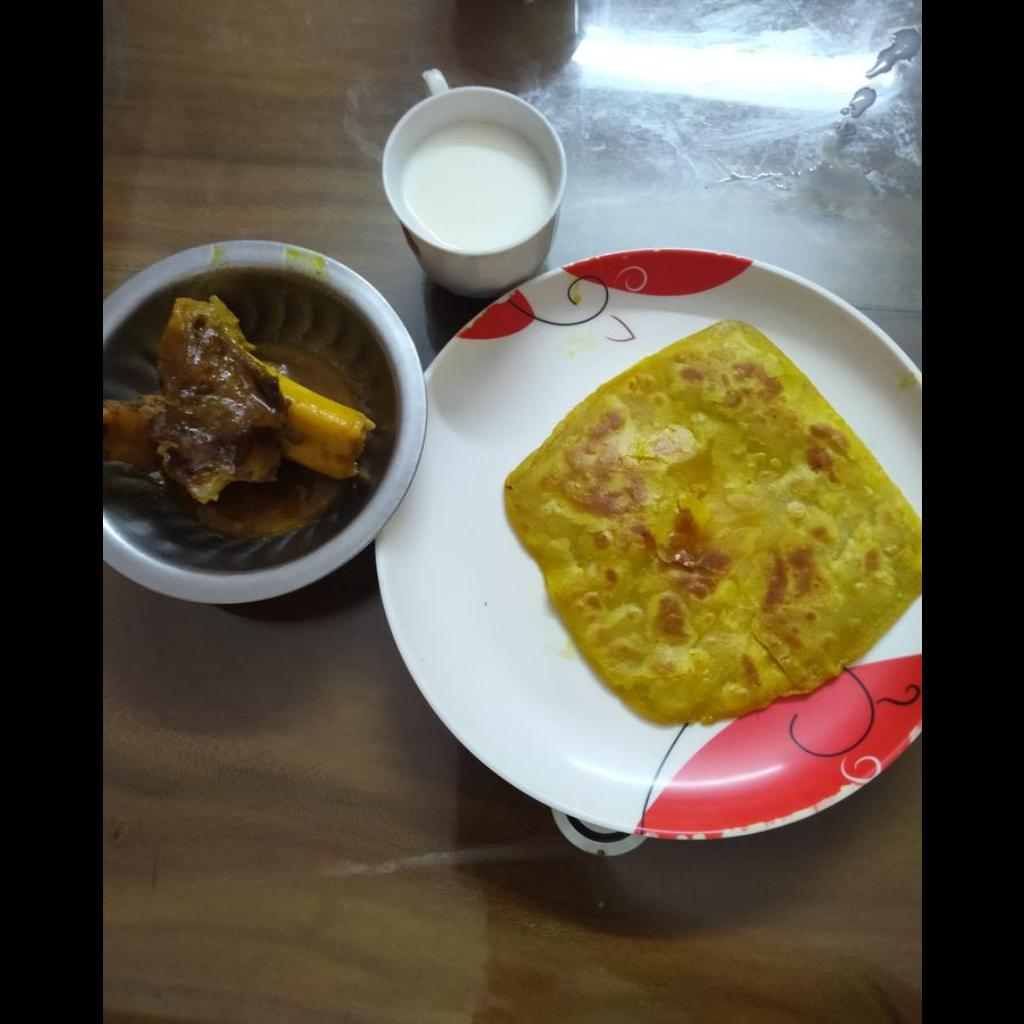beef: (107, 300, 372, 508)
milk: (403, 123, 552, 244)
ruti: (503, 316, 920, 728)
